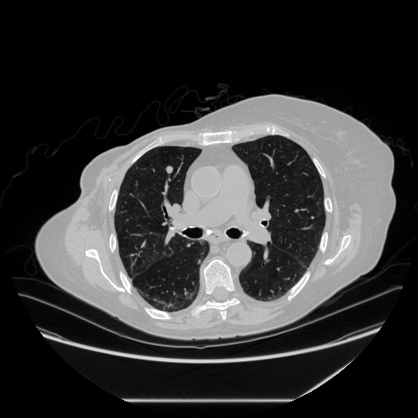nodule: (165, 165, 173, 173)
